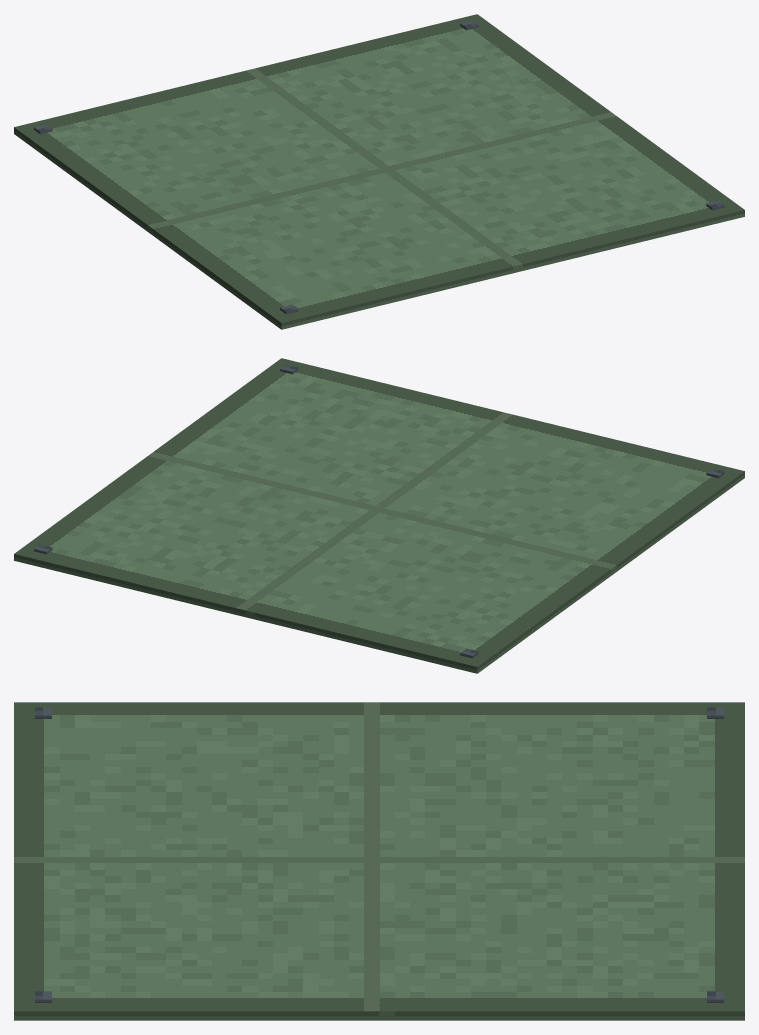
File: f_large_groundsheet.glb
The picture shows the model from 3 angles, top to bottom: view 1: azimuth 30°, elevation 25°; view 2: azimuth 150°, elevation 25°; view 3: azimuth 270°, elevation 25°; orthographic projection. The views are drawn at different scales.
Visible parts, largest first — view 1: block_sheet; view 2: block_sheet; view 3: block_sheet.
Boxes of the visible parts, <box> form: block_sheet: <box>14,14,744,329</box>; block_sheet: <box>14,358,744,673</box>; block_sheet: <box>14,702,744,1020</box>.
Bounding box in the file's own units: 0.995 × 0.019 × 0.995.
1 material, 1 textured.
